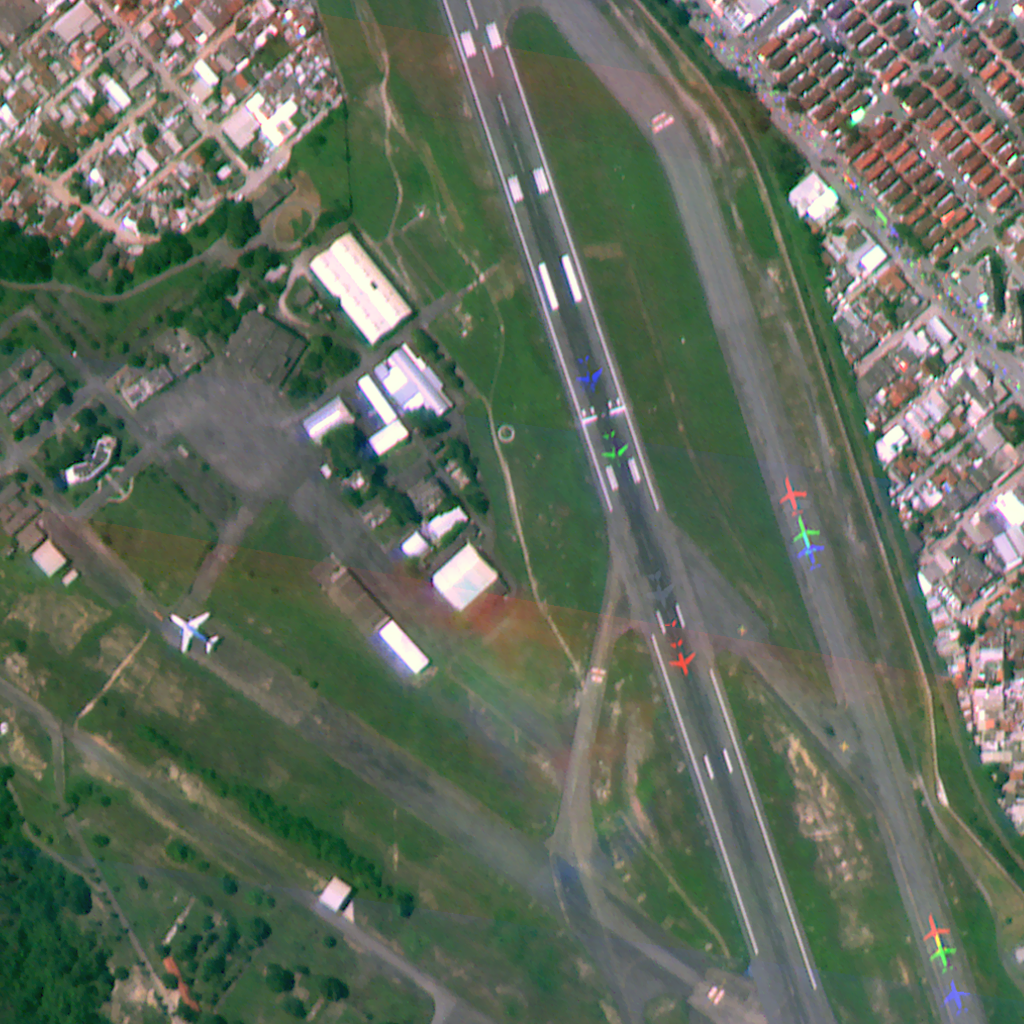plane: (167, 608, 222, 659), (572, 350, 609, 394), (597, 429, 630, 473), (778, 472, 809, 517), (666, 633, 695, 678), (930, 938, 961, 974), (791, 514, 821, 550), (923, 910, 951, 948), (794, 539, 828, 570), (944, 980, 972, 1016)
